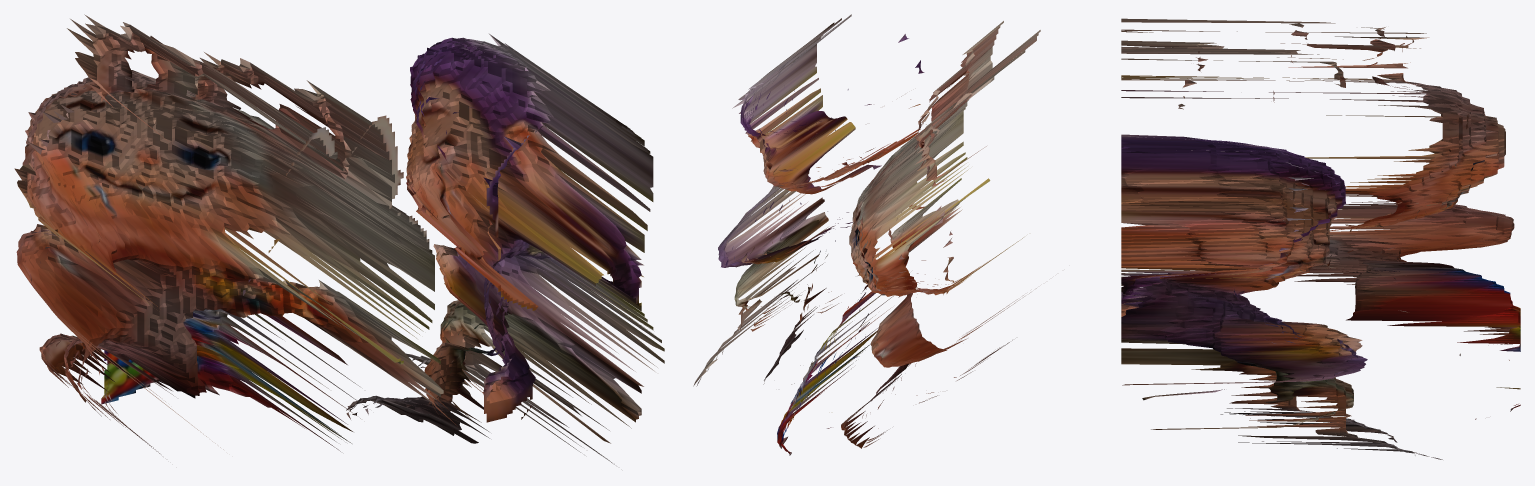
The model's file is frame_00411.glb.
3 renders of one model, left to right at view 1: azimuth 30°, elevation 25°; view 2: azimuth 150°, elevation 25°; view 3: azimuth 270°, elevation 25°, orthographic. The views are drawn at different scales.
Parts seen in each view (by area): view 1: geometry_0; view 2: geometry_0; view 3: geometry_0.
Boxes of the visible parts, left/top/right/bottom form: geometry_0: left=14, top=14, right=664, bottom=464; geometry_0: left=693, top=14, right=1040, bottom=455; geometry_0: left=1121, top=18, right=1520, bottom=459.
Bounding box in the file's own units: 0.1466 × 0.1596 × 0.16.
1 material, 1 textured.
